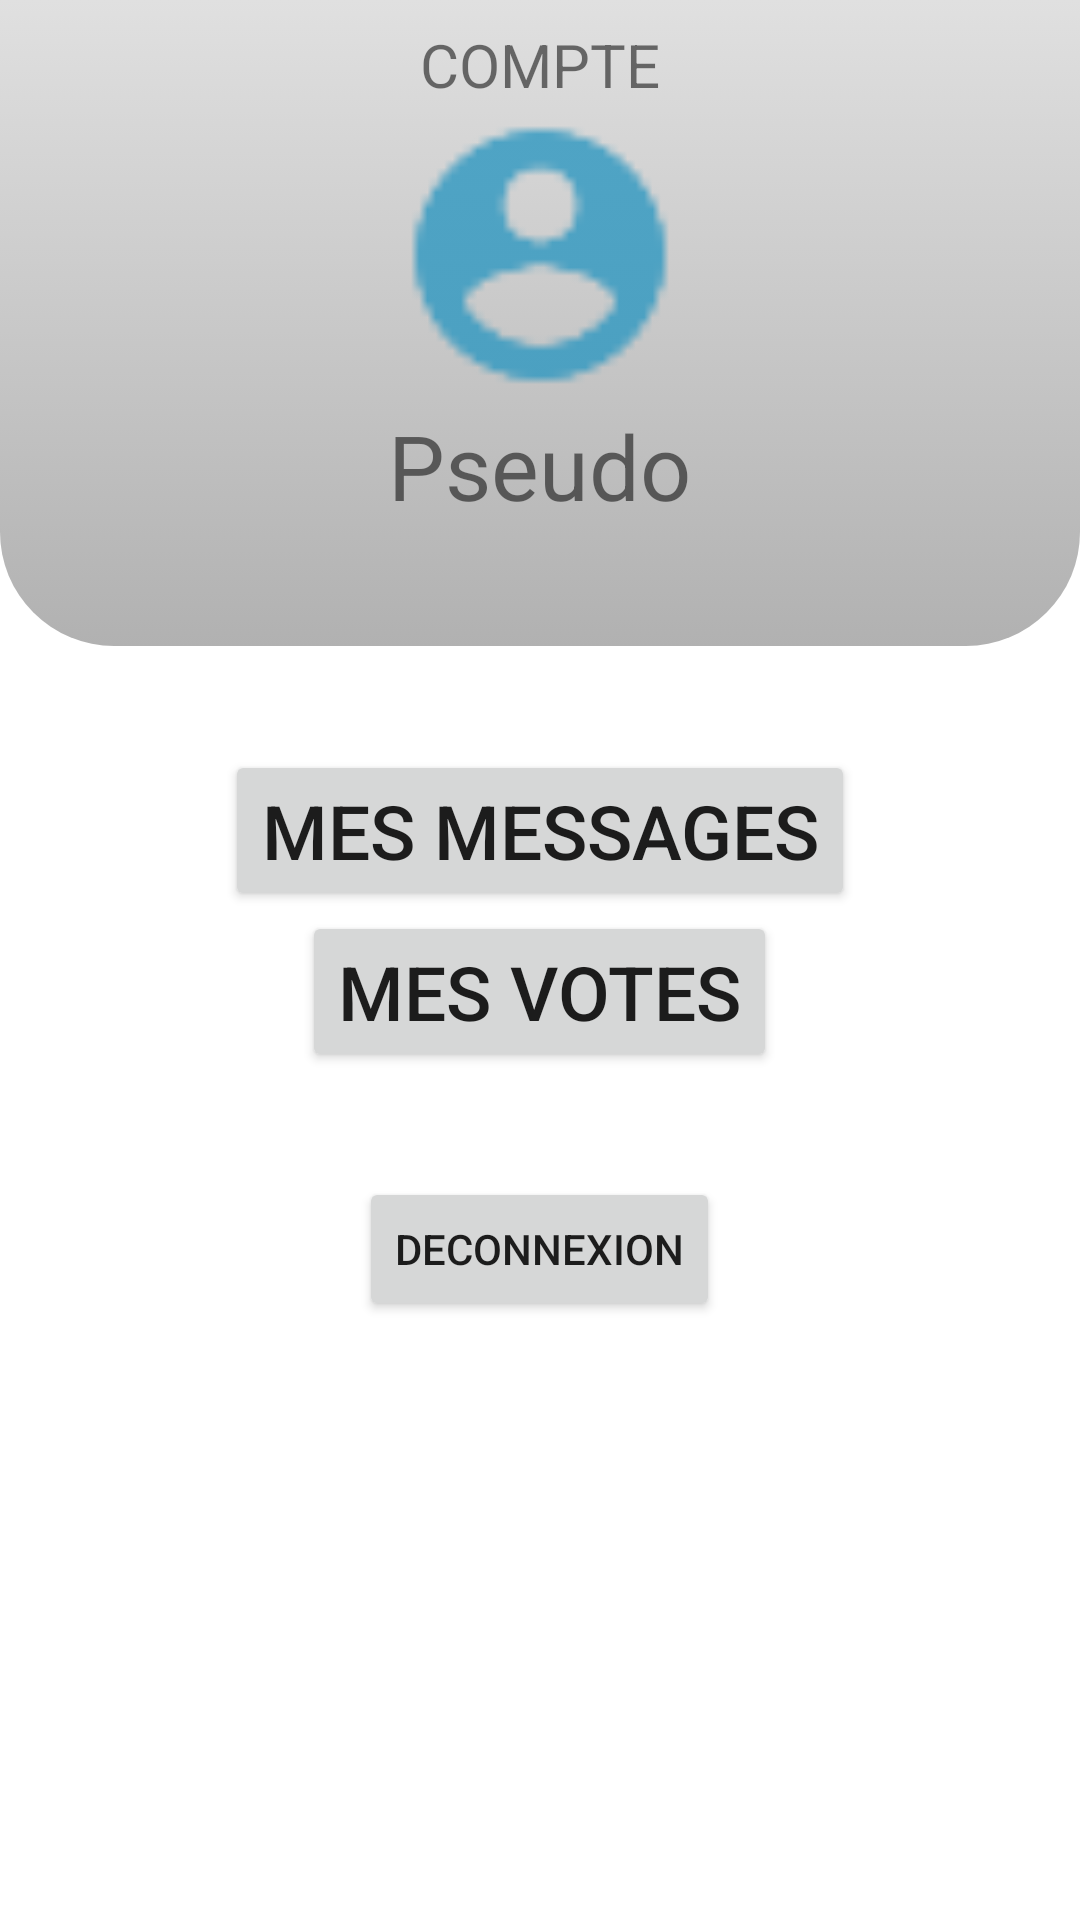

Screen size 1080 × 1920. Icon name, then its box in pixels as [x1, y1, x2, y2]:
profile: [413, 128, 667, 383]
